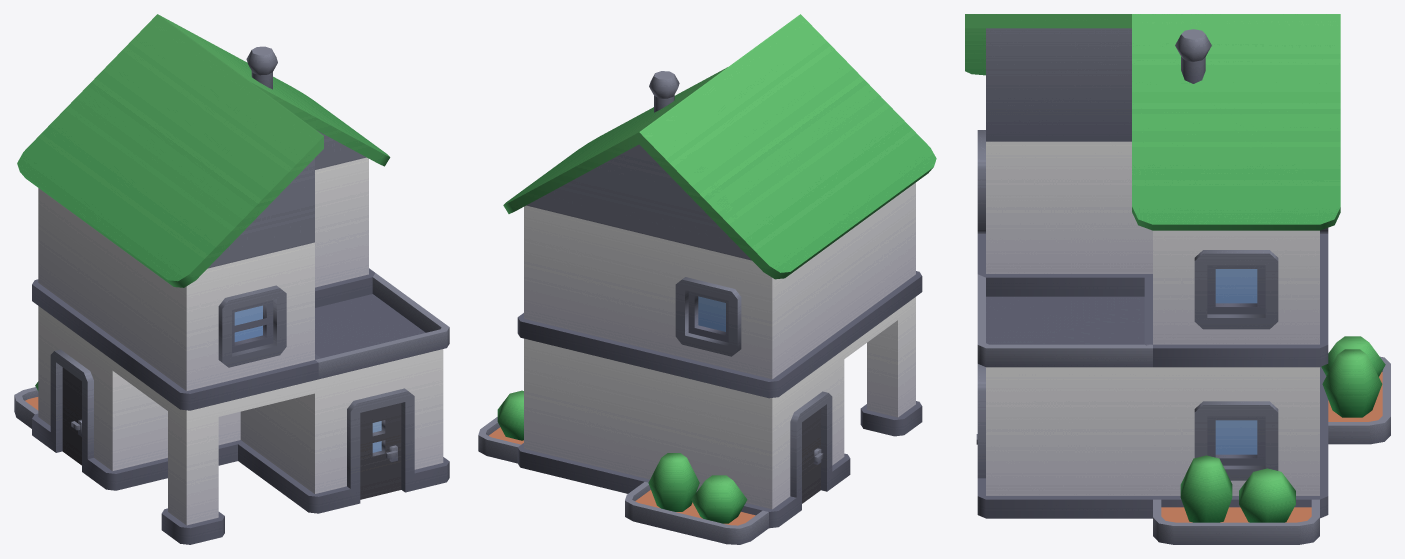
File: building-type-r.glb
3 renders of one model, left to right at view 1: azimuth 30°, elevation 25°; view 2: azimuth 150°, elevation 25°; view 3: azimuth 270°, elevation 25°, orthographic. The views are drawn at different scales.
Parts seen in each view (by area): view 1: building-type-r; view 2: building-type-r; view 3: building-type-r.
Part boxes in pixels (x1,y1,x2,y2): building-type-r: [14, 14, 449, 544]; building-type-r: [478, 14, 936, 544]; building-type-r: [965, 14, 1390, 544].
Bounding box in the file's own units: 1.03 × 1.14 × 1.02.
Materials: 1 (1 with a texture image).
